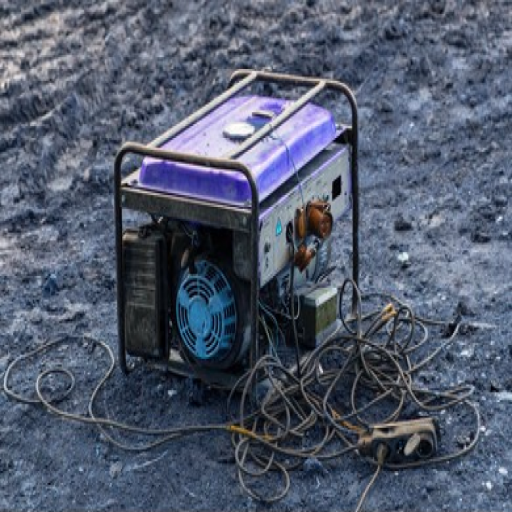portable_generator: (114, 69, 362, 394)
